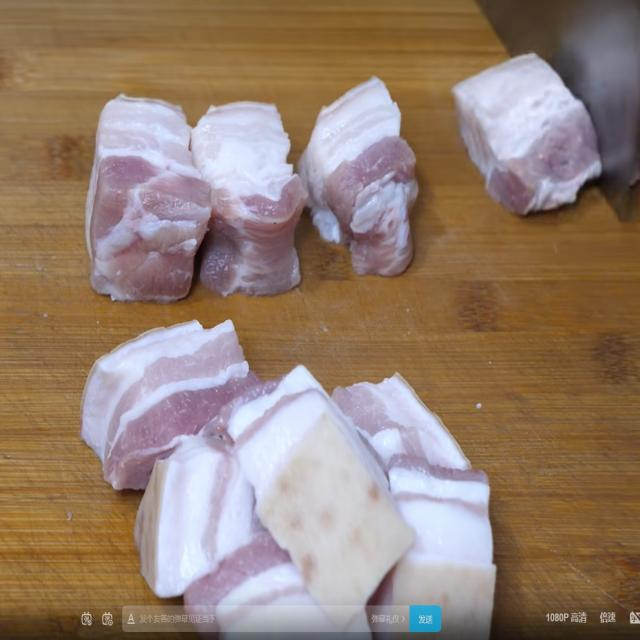pork: (331, 370, 508, 604), (225, 361, 400, 588), (295, 71, 456, 284), (434, 23, 596, 210), (88, 58, 204, 308), (67, 325, 273, 457), (186, 87, 303, 310)
